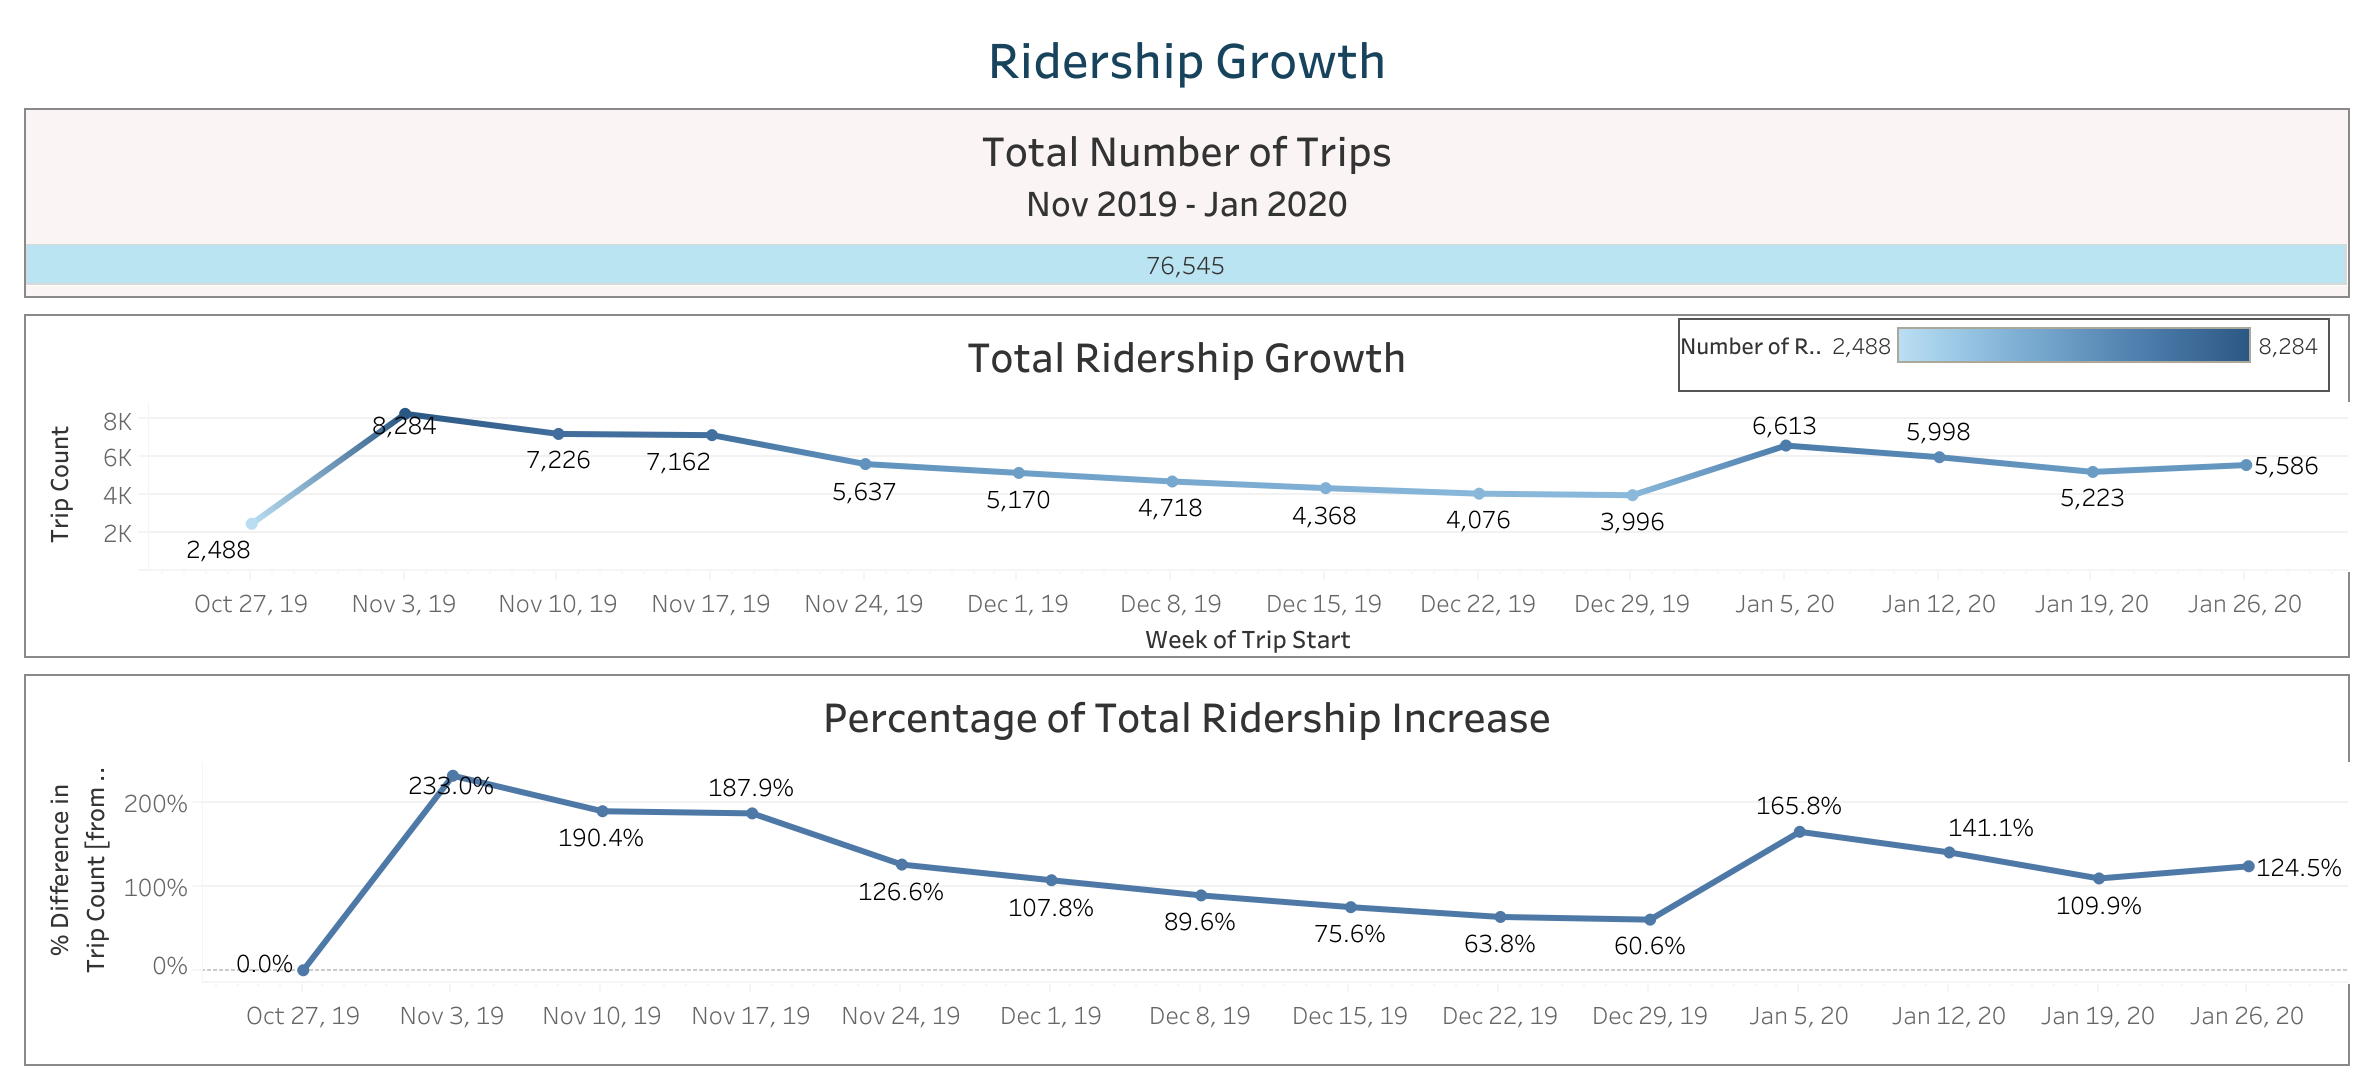

The page's visual inventory and layout, read from the dashboard file:
{"tool":"tableau","page":{"name":"Ridership Growth","canvas":[1000,1000],"units":"permille","ordinal":1},"visuals":[{"type":"title","box":[8.1,12.8,983.8,65.6]},{"type":"worksheet","title":"Total Trips","mark":"Automatic","box":[8.1,78.4,983.8,192]},{"type":"worksheet","title":"Total Ridership Growth","mark":"Automatic","rows":["Number of Records"],"cols":["starttime"],"box":[8.1,270.4,983.8,336]},{"type":"legend","title":"Total Ridership Growth","param":"[federated.0bl1ixe19uang21496f3y0pw2axb].[sum:Number of Records:qk]","box":[706.5,291.2,275.3,68.8]},{"type":"worksheet","title":"Total Ridership Growth - Percentage","mark":"Automatic","cols":["starttime"],"box":[8.1,606.4,983.8,380.8]}]}

Visuals, with their boxes on the dashboard's canvas, which has no fixed pixel size, in thousandths of its width and height (x1, y1, x2, y2). These are canvas units, not pixel positions in the 2372x1088 screenshot, which may show the page scaled, cropped or inside an application window:
title: (left=8, top=13, right=992, bottom=78)
"Total Trips" worksheet: (left=8, top=78, right=992, bottom=270)
"Total Ridership Growth" worksheet: (left=8, top=270, right=992, bottom=606)
"Total Ridership Growth" legend: (left=706, top=291, right=982, bottom=360)
"Total Ridership Growth - Percentage" worksheet: (left=8, top=606, right=992, bottom=987)
